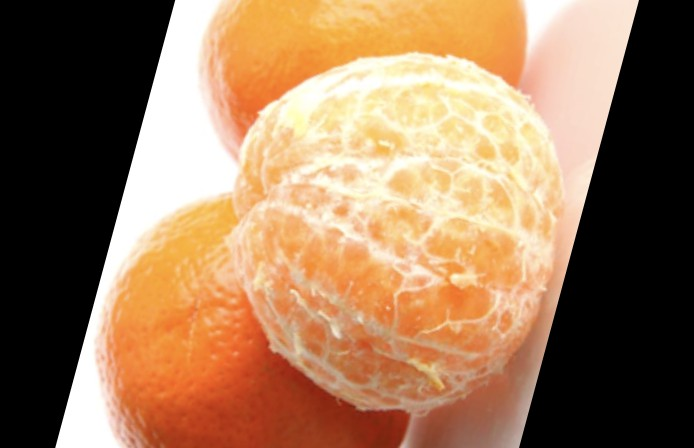fresh_orange: (97, 193, 418, 448), (200, 1, 529, 195)
